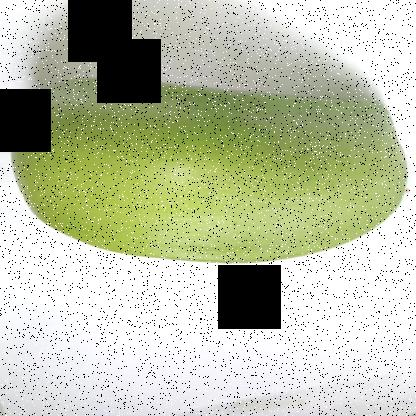freshunripe: (4, 64, 408, 283)
